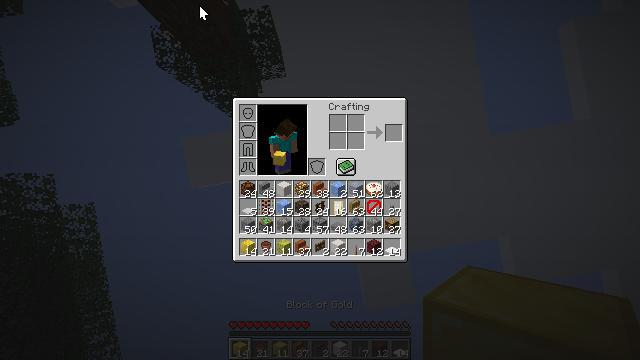cursor: (5, 199, 21, 209)
